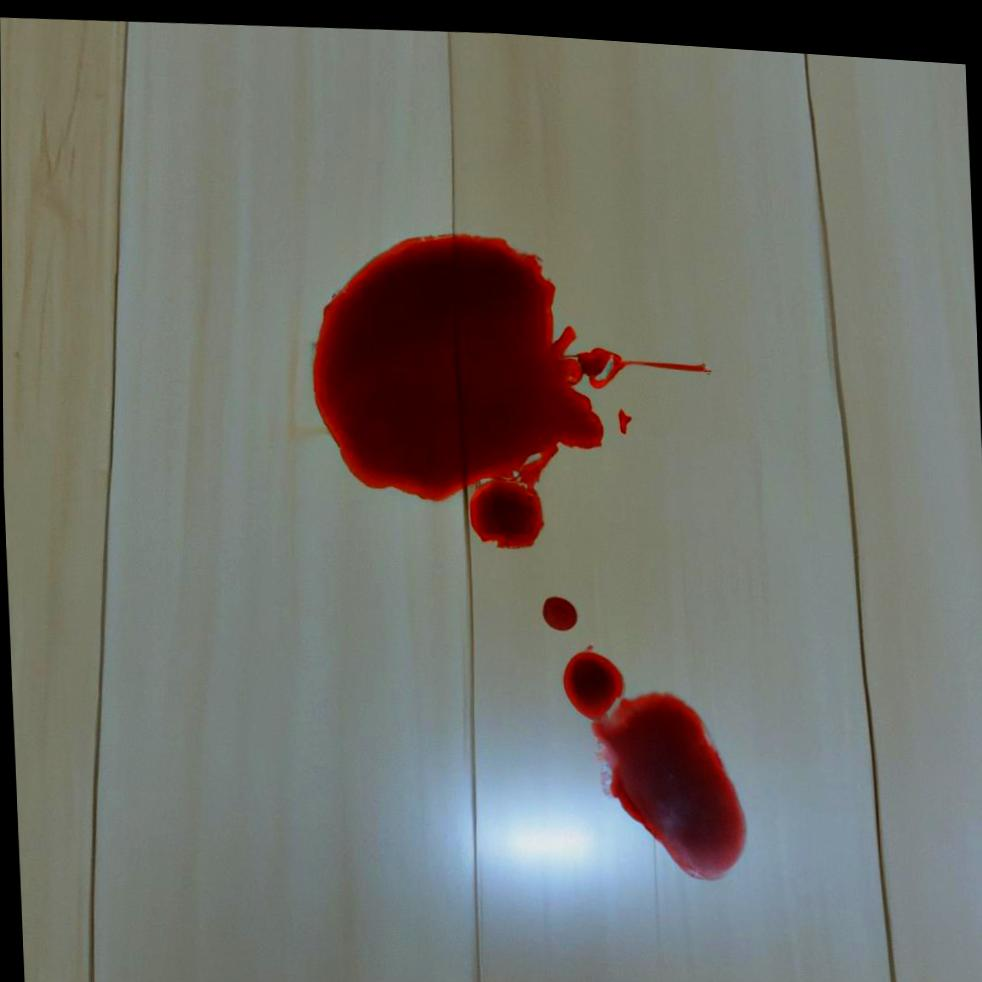Fire: (311, 227, 710, 541), (561, 636, 746, 871), (540, 588, 575, 622)
